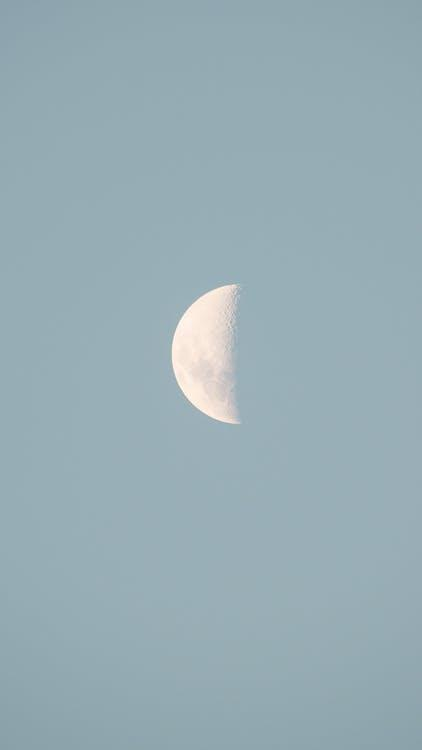moon: (161, 268, 296, 440)
